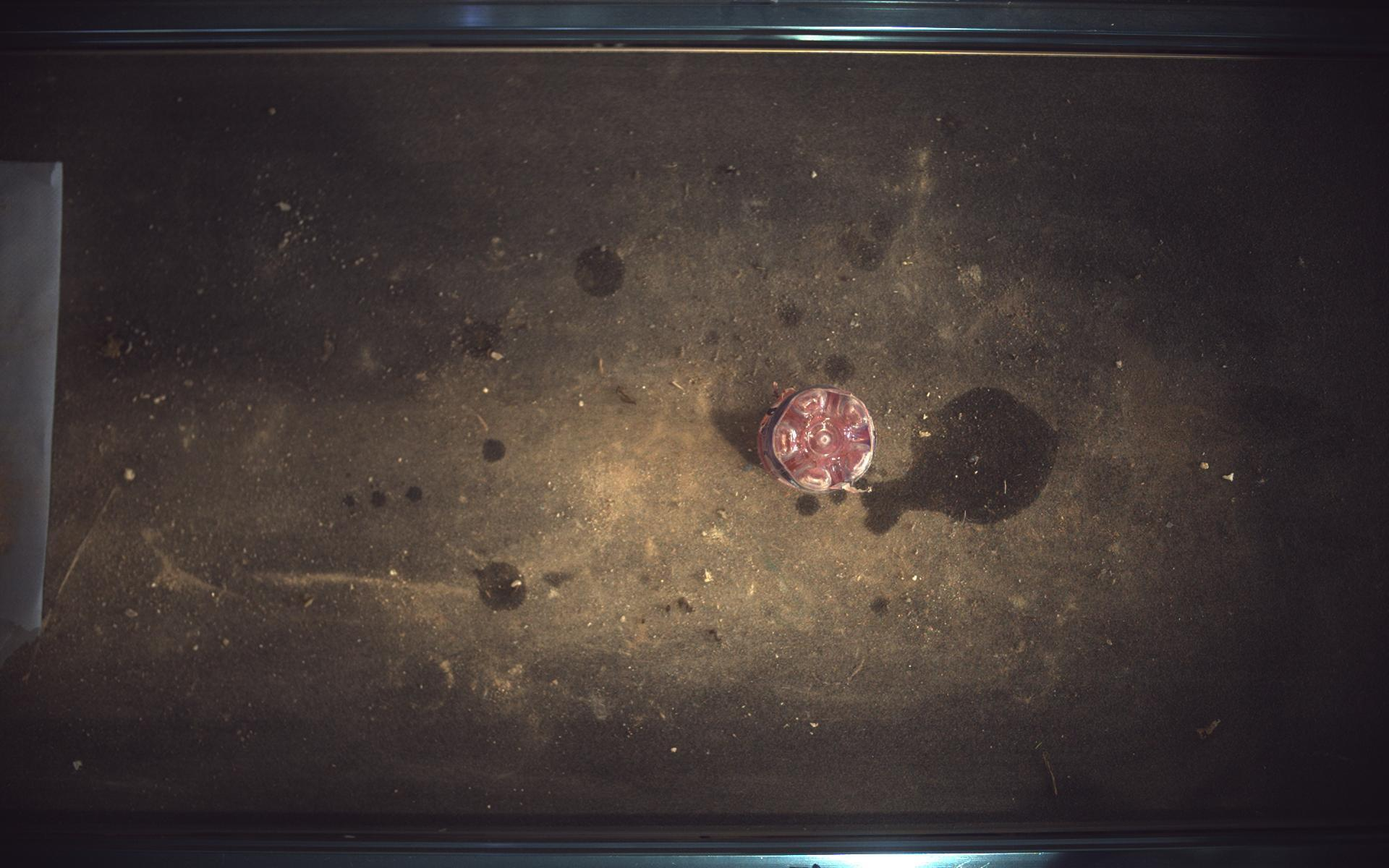general_w: (759, 386, 877, 494)
